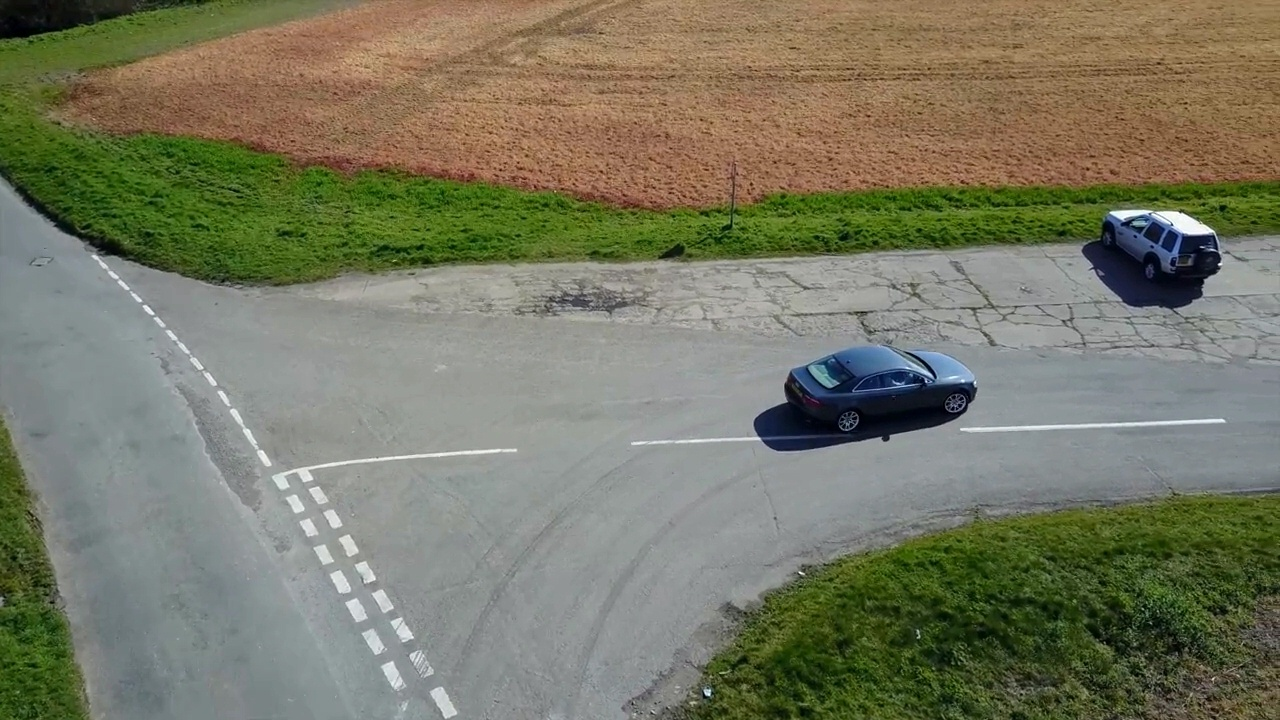araba: (782, 343, 982, 432), (1101, 203, 1222, 288)
